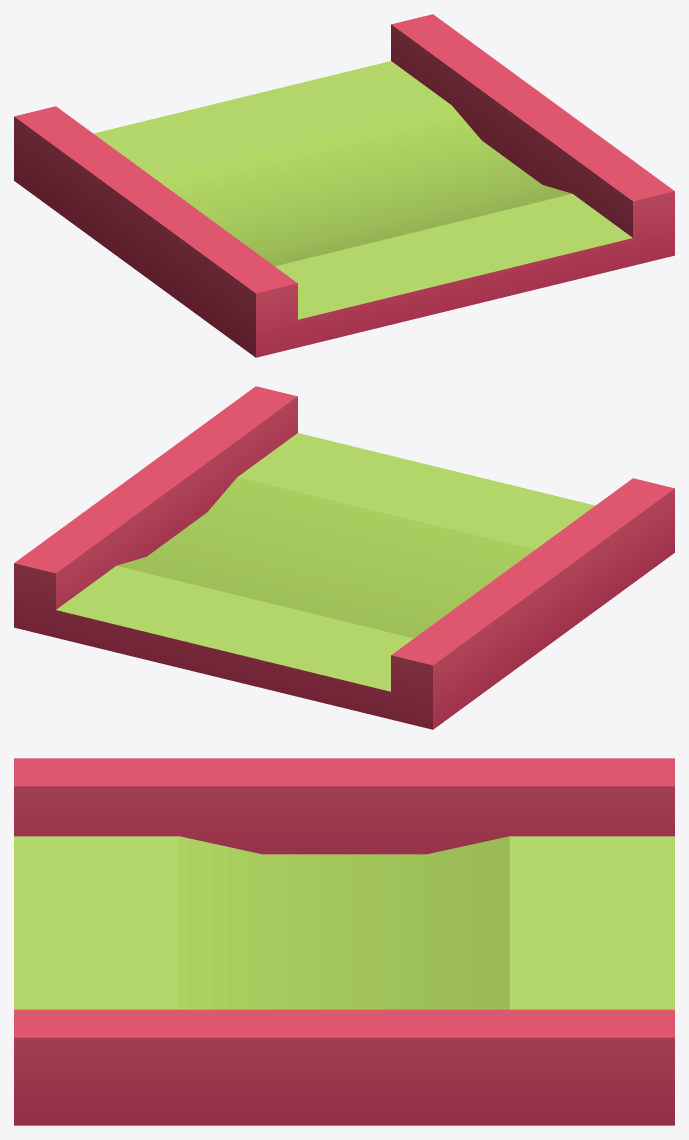
File: crest.fbx
3 views of the same model, one above another, from view 1: azimuth 30°, elevation 25°; view 2: azimuth 150°, elevation 25°; view 3: azimuth 270°, elevation 25° (orthographic). The views are drawn at different scales.
Parts seen in each view (by area): view 1: crest; view 2: crest; view 3: crest.
Part boxes in pixels (x1,y1,x2,y2): crest: (14,14,674,357); crest: (14,386,674,729); crest: (14,758,674,1125).
Bounding box in the file's own units: 99.99 × 14.67 × 99.99.
Materials: 1 (1 with a texture image).
